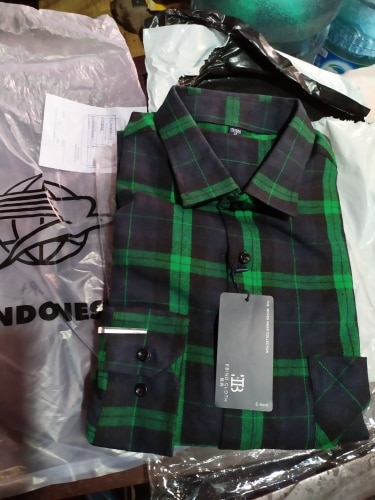shirts: (102, 85, 369, 444)
